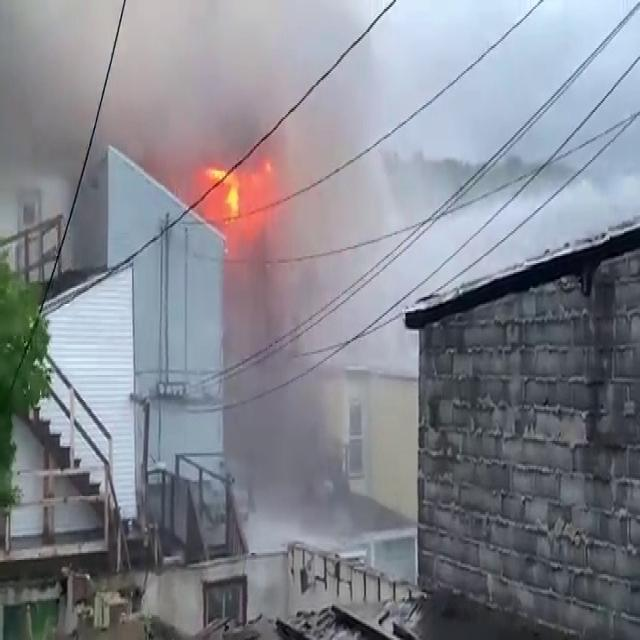Fire: (194, 153, 270, 233)
Smoke: (213, 6, 434, 559), (2, 0, 293, 252)
